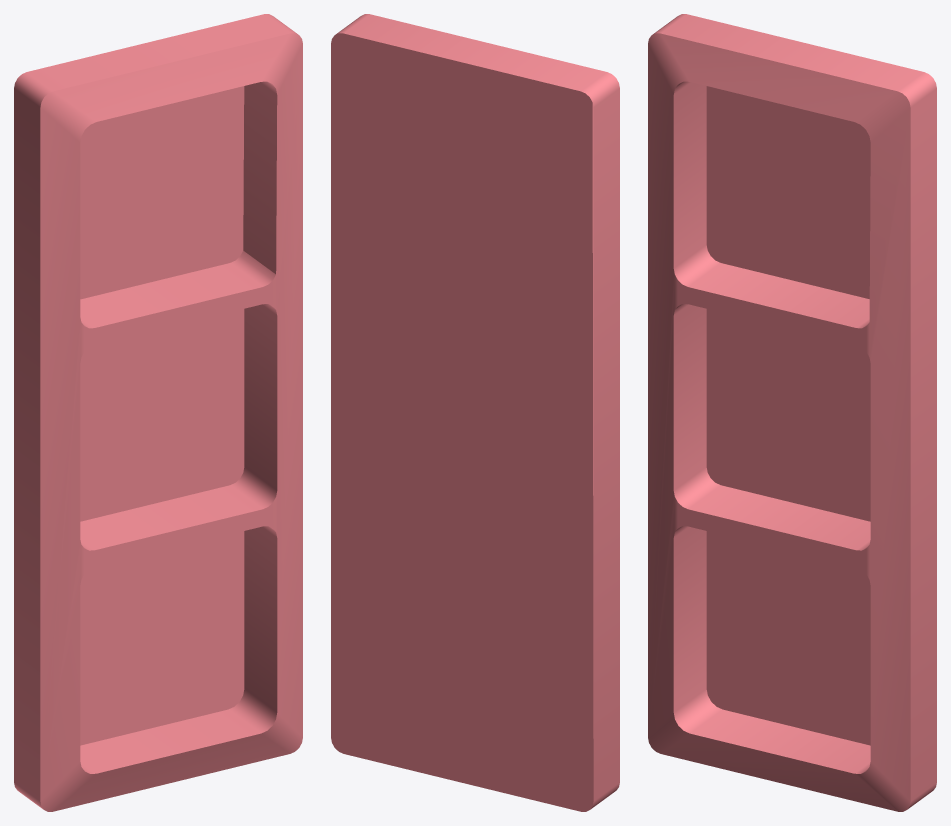
Rendered from SocketCase03.fbx.
3 renders of one model, left to right at view 1: azimuth 30°, elevation 25°; view 2: azimuth 150°, elevation 25°; view 3: azimuth 330°, elevation 25°, orthographic.
Parts seen in each view (by area): view 1: SocketCase03; view 2: SocketCase03; view 3: SocketCase03.
Part boxes in pixels (box(x1,y1,x2,y2)): SocketCase03: box(14, 14, 302, 811); SocketCase03: box(331, 14, 619, 811); SocketCase03: box(648, 14, 936, 811).
Bounding box in the file's own units: 8 × 20.97 × 1.77.
